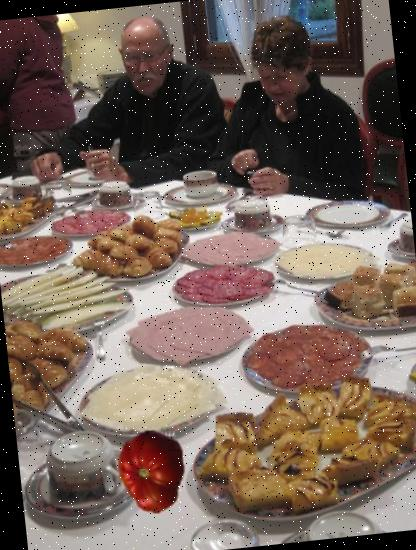Tomato: (106, 426, 198, 518)
